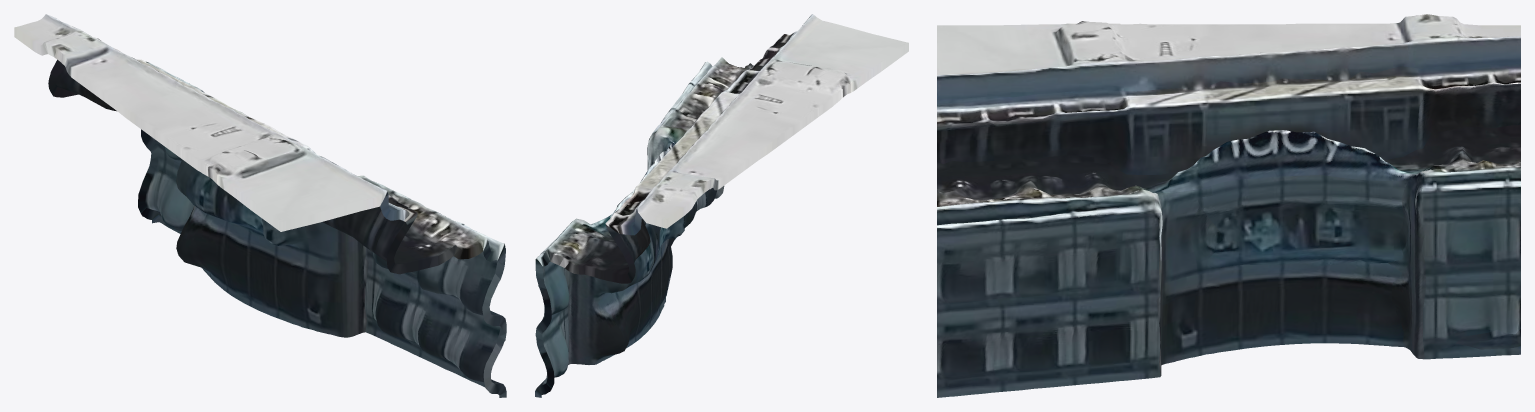
Rendered from z20-167750-405250-h1-yup-uvflip-v3-world.glb.
3 renders of one model, left to right at view 1: azimuth 30°, elevation 25°; view 2: azimuth 150°, elevation 25°; view 3: azimuth 270°, elevation 25°, orthographic. The views are drawn at different scales.
Bounding box in the file's own units: 14.84 × 15.12 × 30.32.
Materials: 1 (1 with a texture image).
